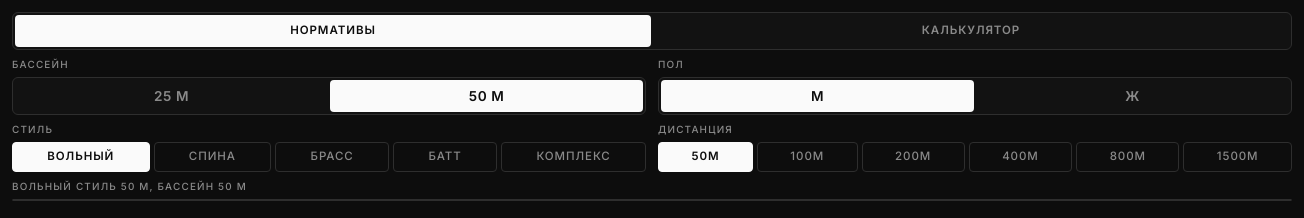
Test case: standards index page › snaps to the shortest distance when the stroke lacks the chosen one
Click the radio button labelled "1500м". click: (1238, 157)
box: [1183,142,1292,172]
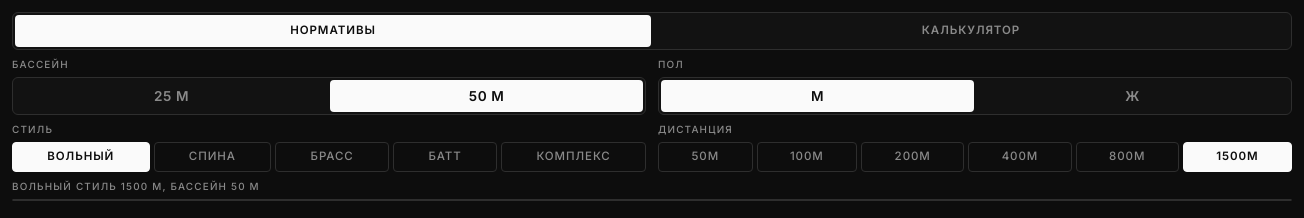
Click the radio button labelled "Комплекс". click: (574, 157)
box: [501,142,646,172]
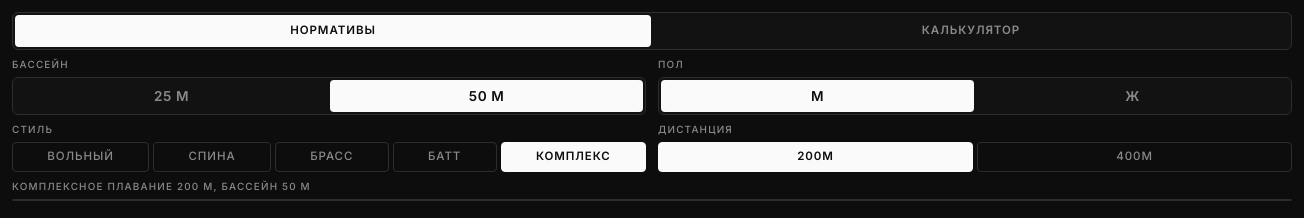
Expected: the heading reads "Комплексное плавание 200 м, бассейн 50 м", [12,180,311,192]
